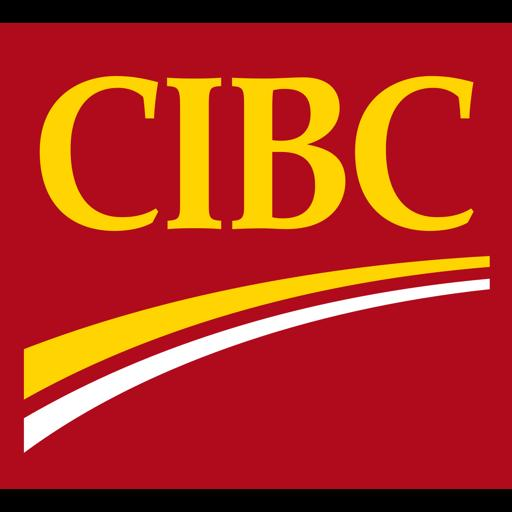Canadian Imperial Bank of Commerce: (0, 22, 512, 489)
